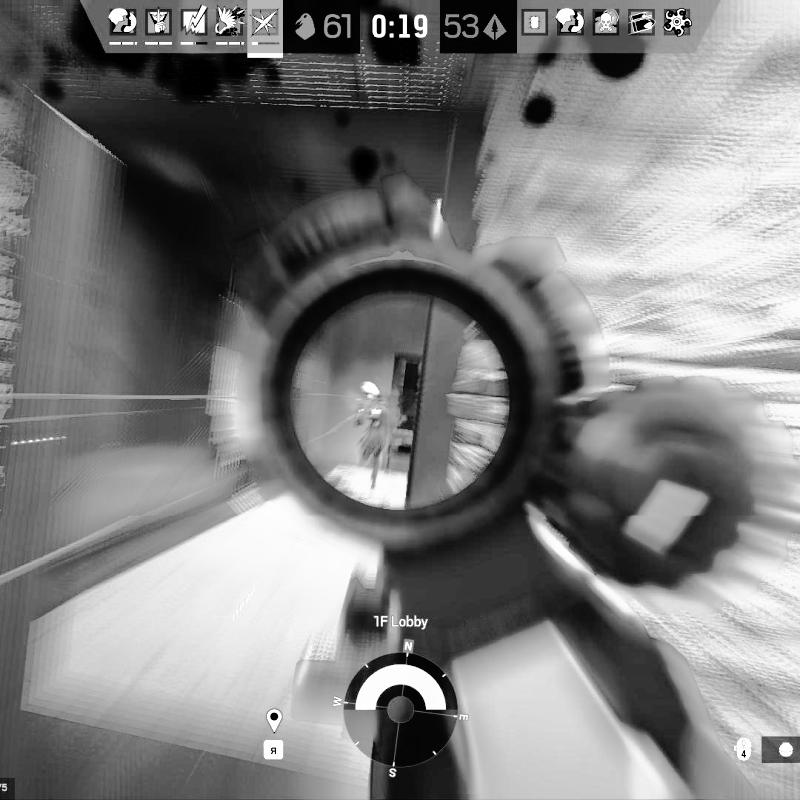Character: (352, 379, 392, 493)
Head: (360, 382, 378, 404)
